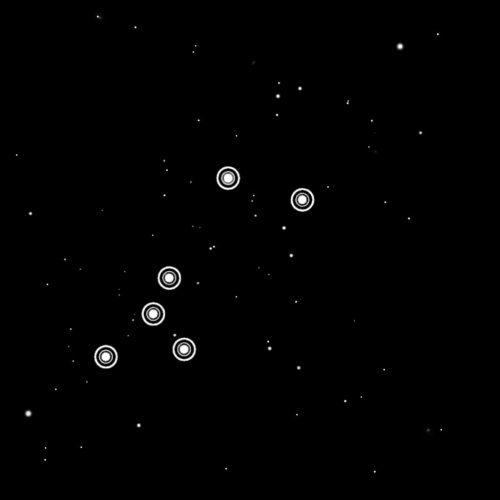canis_major: (86, 158, 325, 380)
